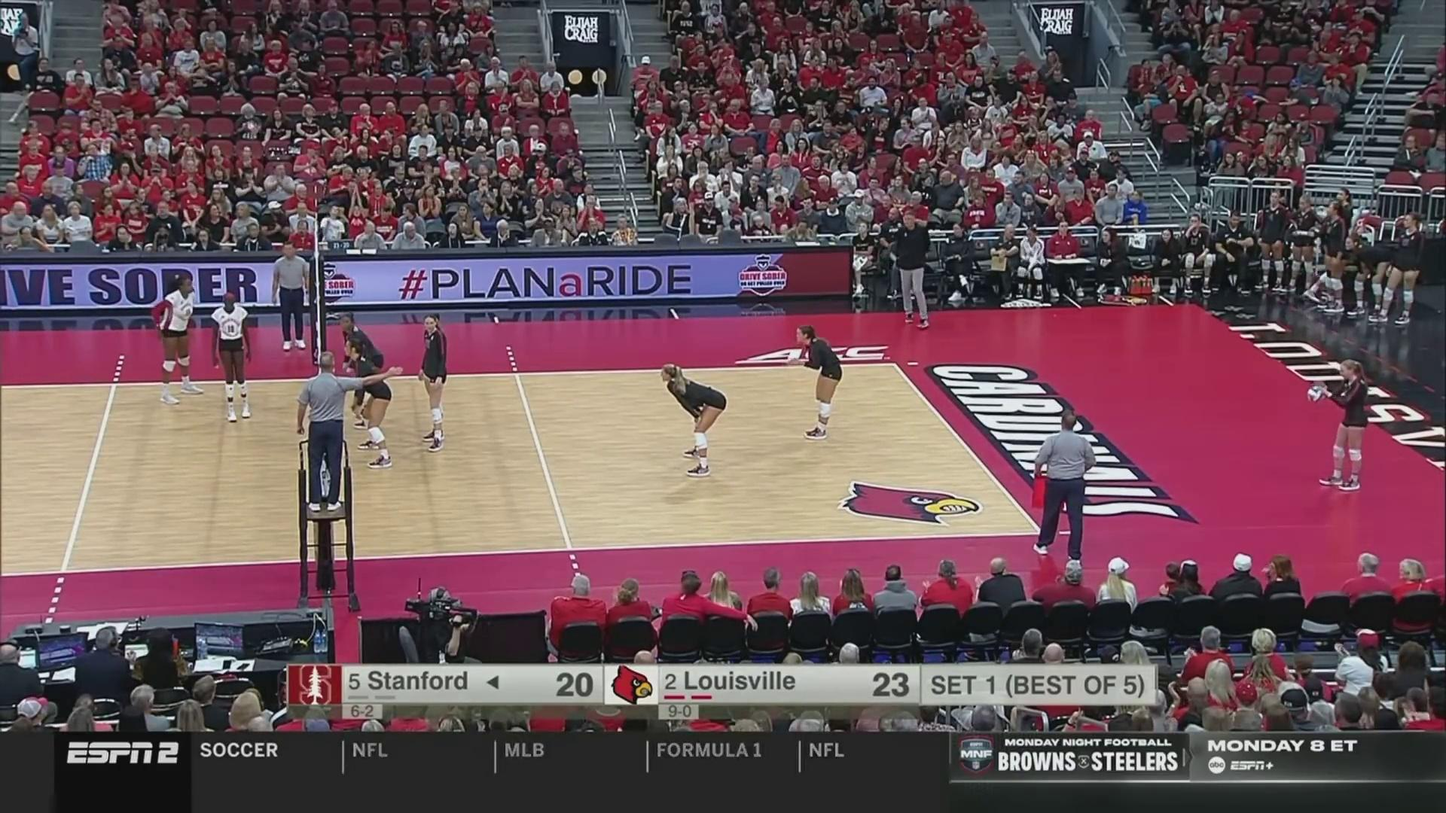player: (1309, 360, 1371, 491), (659, 363, 727, 478), (152, 276, 203, 400), (345, 339, 394, 468), (792, 325, 844, 439), (211, 291, 253, 422), (339, 313, 384, 425), (416, 312, 449, 452)
refree: (297, 352, 380, 512), (1033, 411, 1097, 575), (270, 242, 310, 348)
